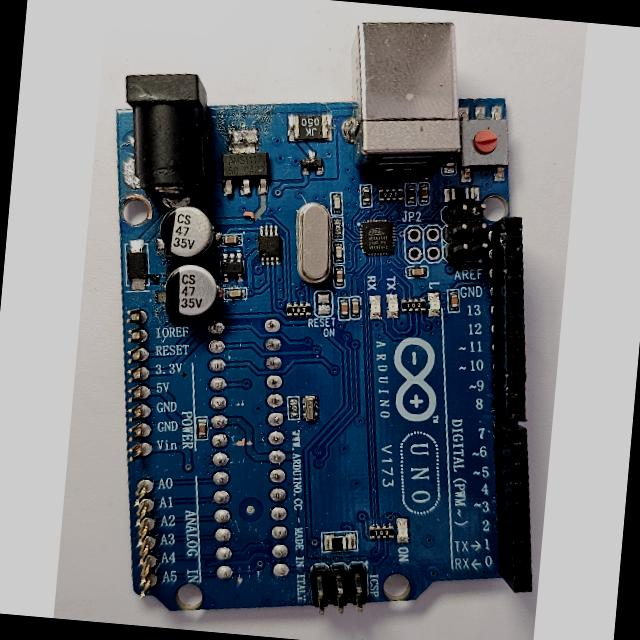missing_analog_pins: (122, 300, 162, 601)
missing_atmega: (204, 315, 303, 593)
